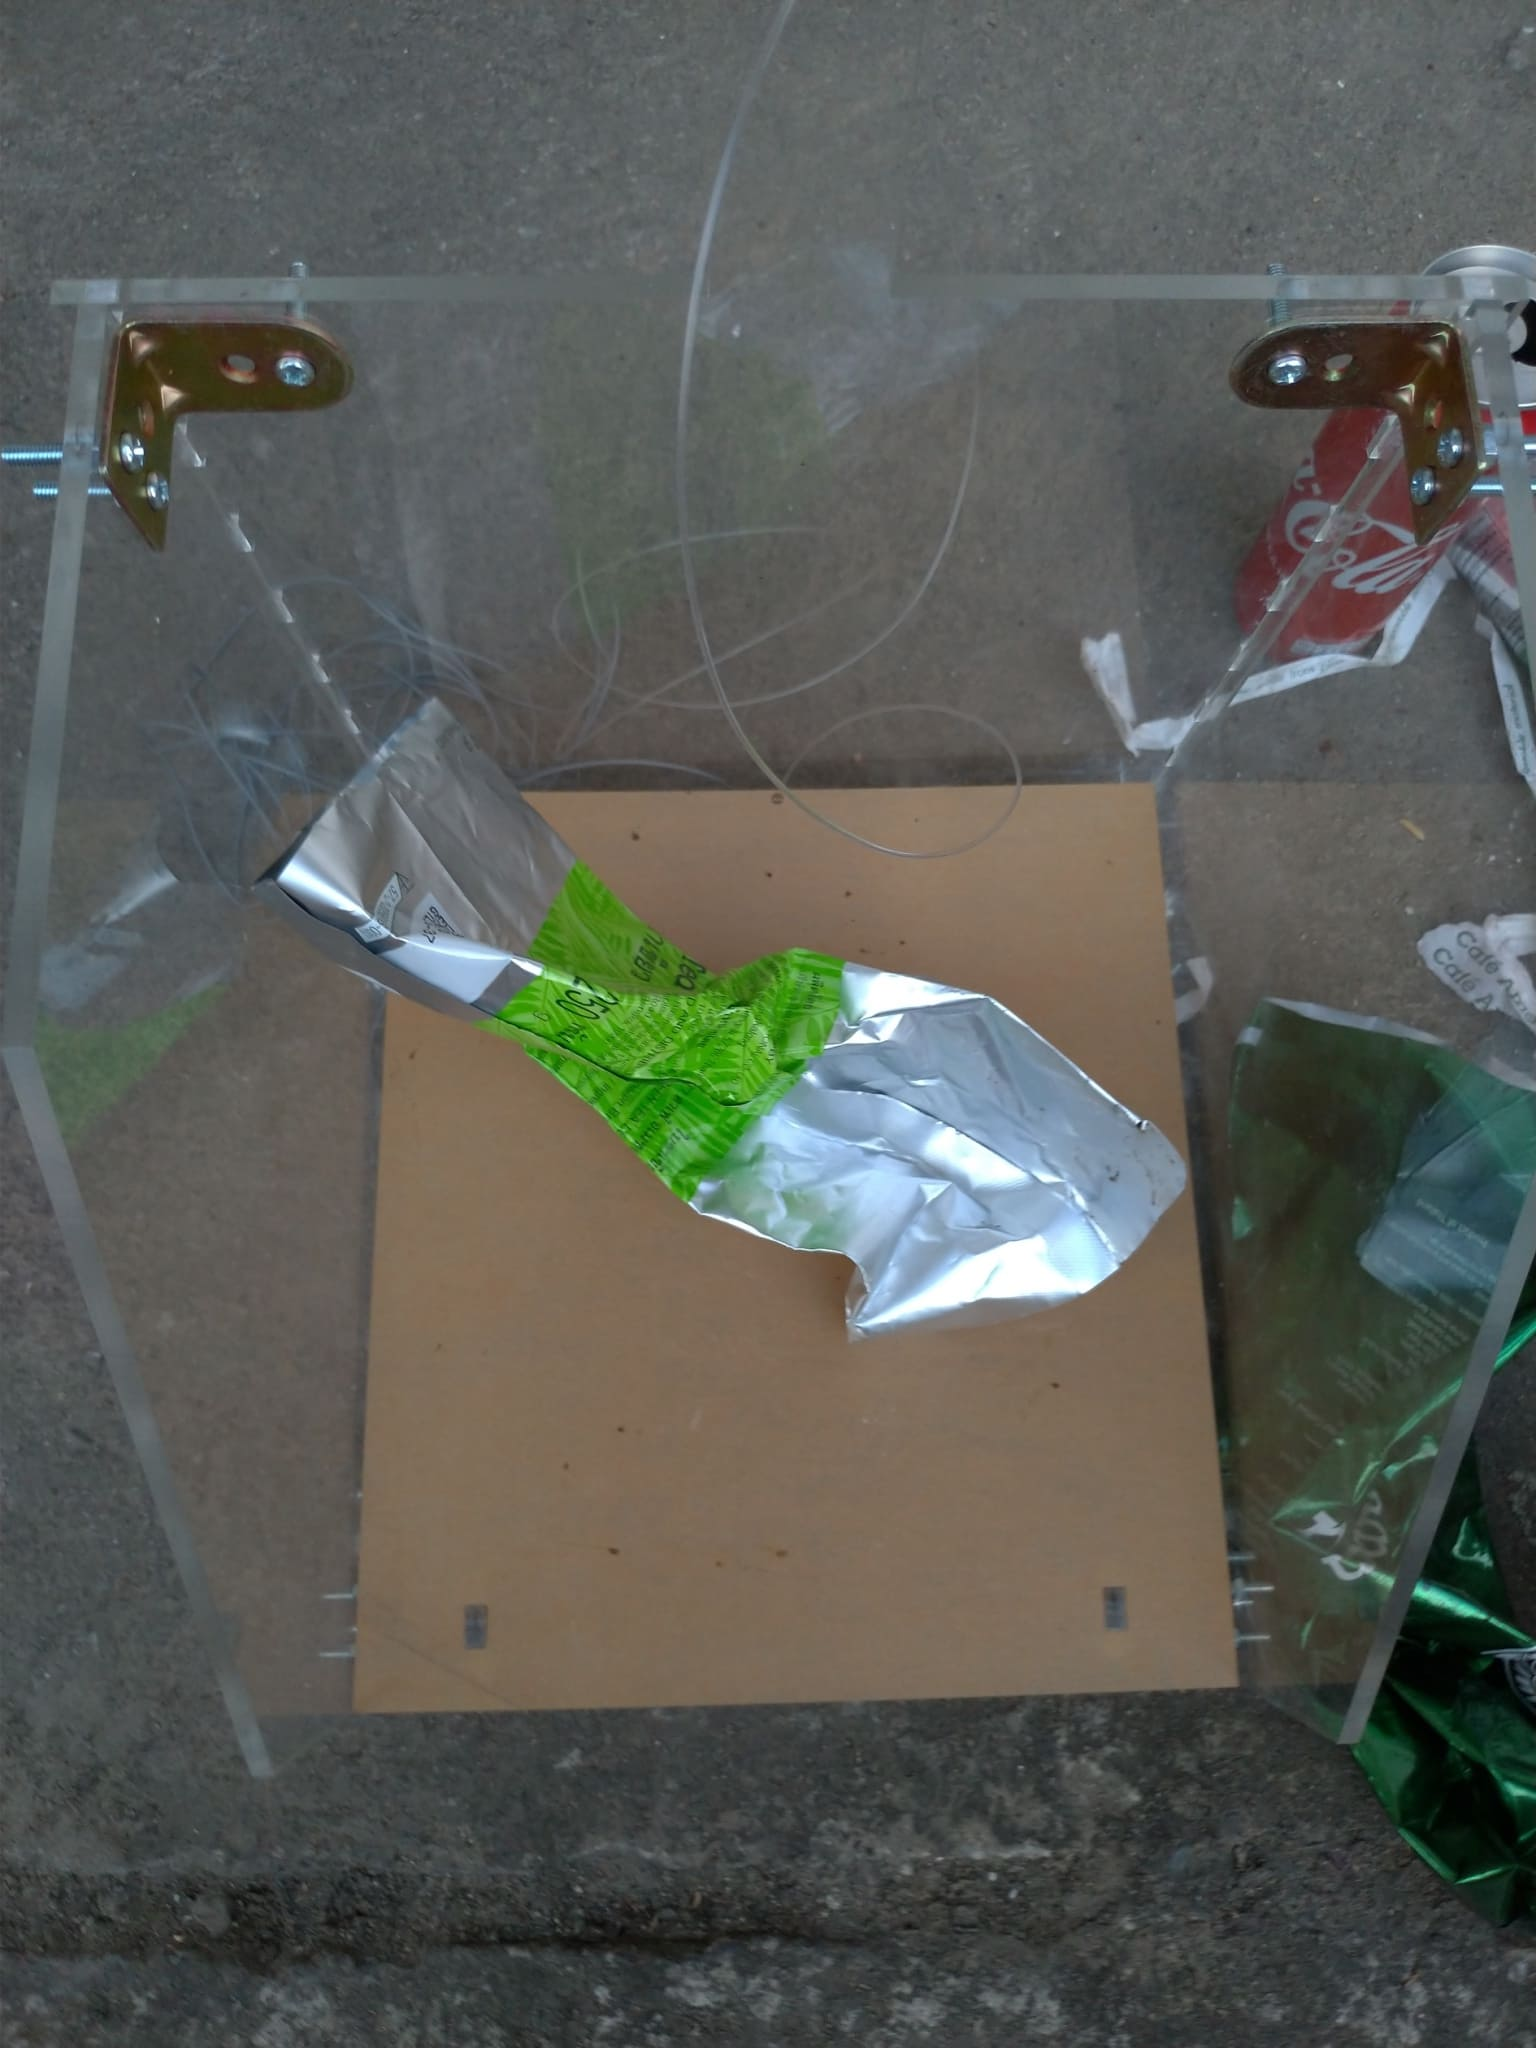AlCan: (1233, 242, 1536, 655)
Others: (260, 698, 1187, 1345), (1210, 989, 1536, 1930), (1079, 561, 1441, 761), (1425, 618, 1530, 998)
